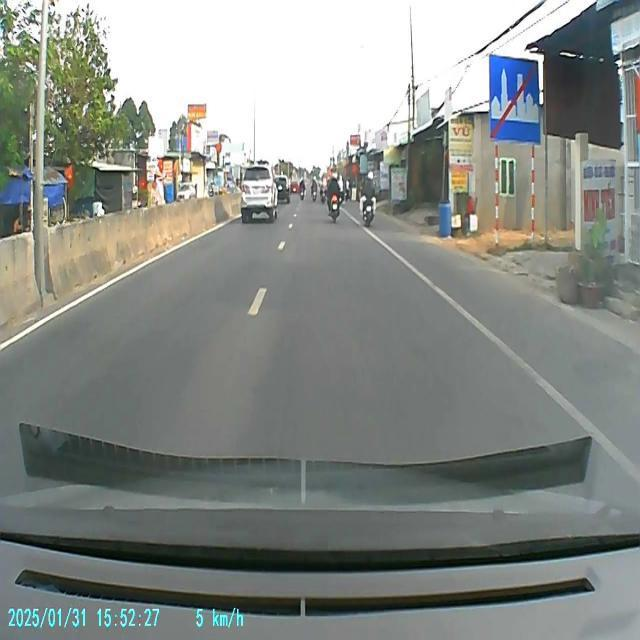421-ket-thuc-khu-dong-dan-cu: (490, 53, 542, 149)
